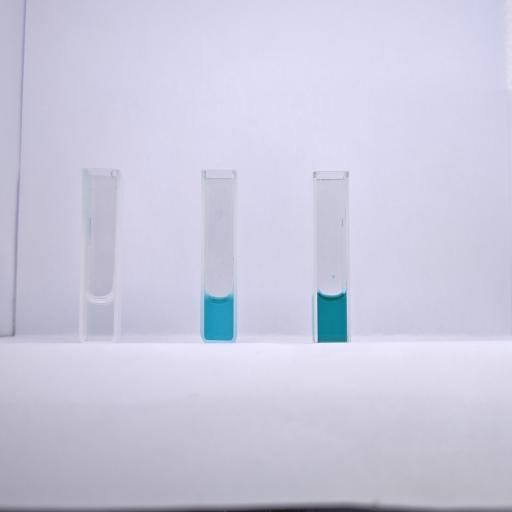cuvette: (78, 163, 123, 347), (198, 168, 240, 346), (311, 169, 353, 347)
liquid: (85, 294, 114, 342), (318, 293, 346, 342), (204, 294, 233, 340)
